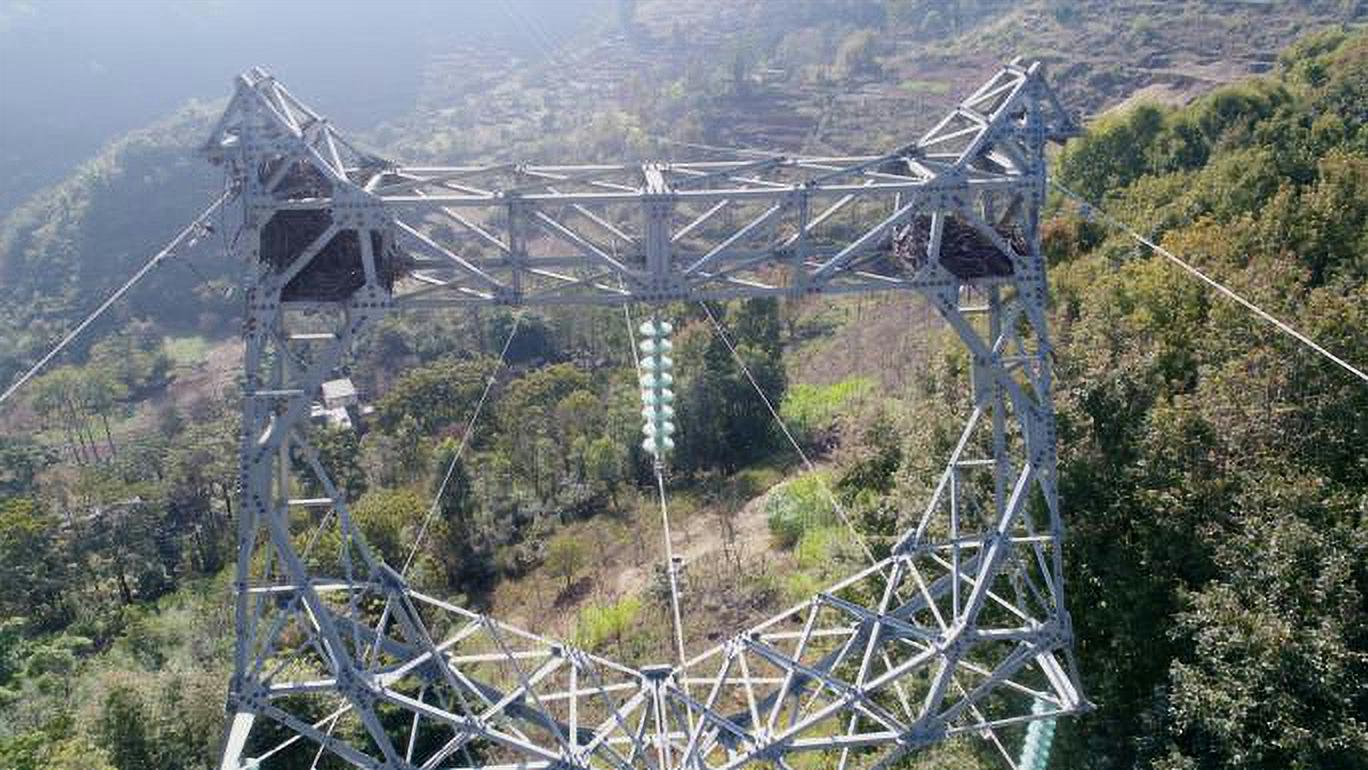insulator: (636, 317, 679, 458), (1014, 689, 1060, 770)
